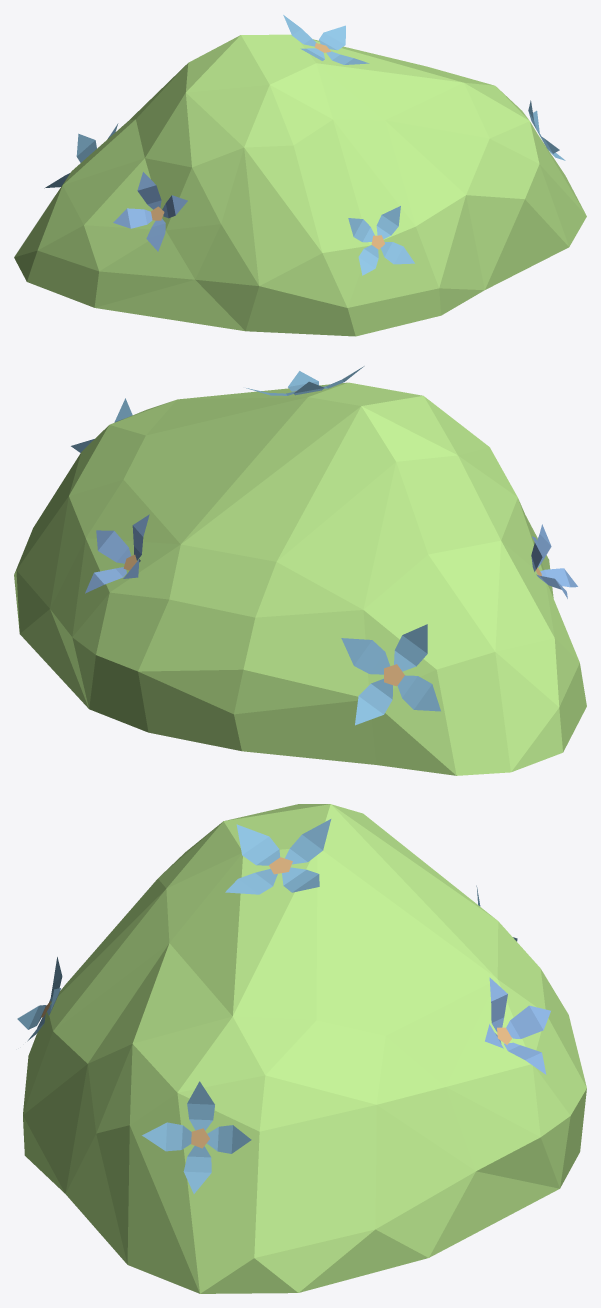
File: FlowerBush_b_l_02.fbx
The picture shows the model from 3 angles, top to bottom: view 1: azimuth 30°, elevation 25°; view 2: azimuth 150°, elevation 25°; view 3: azimuth 270°, elevation 25°; orthographic projection. The views are drawn at different scales.
Parts seen in each view (by area): view 1: FlowerBush_b_l_02; view 2: FlowerBush_b_l_02; view 3: FlowerBush_b_l_02.
Boxes of the visible parts, x1,y1,x2,y2 form: FlowerBush_b_l_02: (14, 15, 586, 336); FlowerBush_b_l_02: (14, 366, 586, 775); FlowerBush_b_l_02: (17, 804, 586, 1293).
Bounding box in the file's own units: 388 × 175 × 294.
